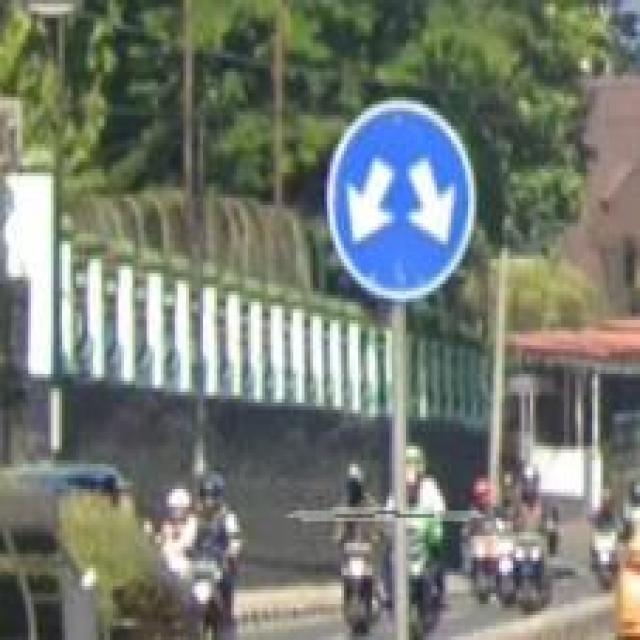traffic sign: (327, 94, 476, 299)
